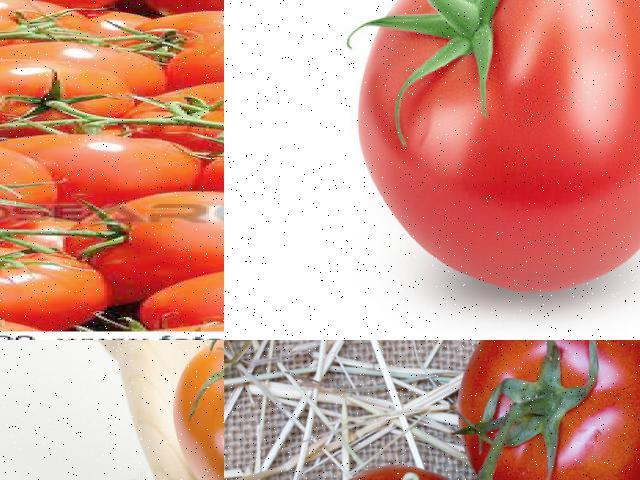tomato: (349, 0, 639, 305), (464, 340, 639, 479), (71, 187, 223, 293), (0, 126, 201, 204), (0, 241, 124, 327), (0, 59, 143, 132), (0, 137, 77, 239), (169, 340, 223, 479), (134, 83, 223, 150), (150, 27, 223, 101), (148, 271, 223, 332)
